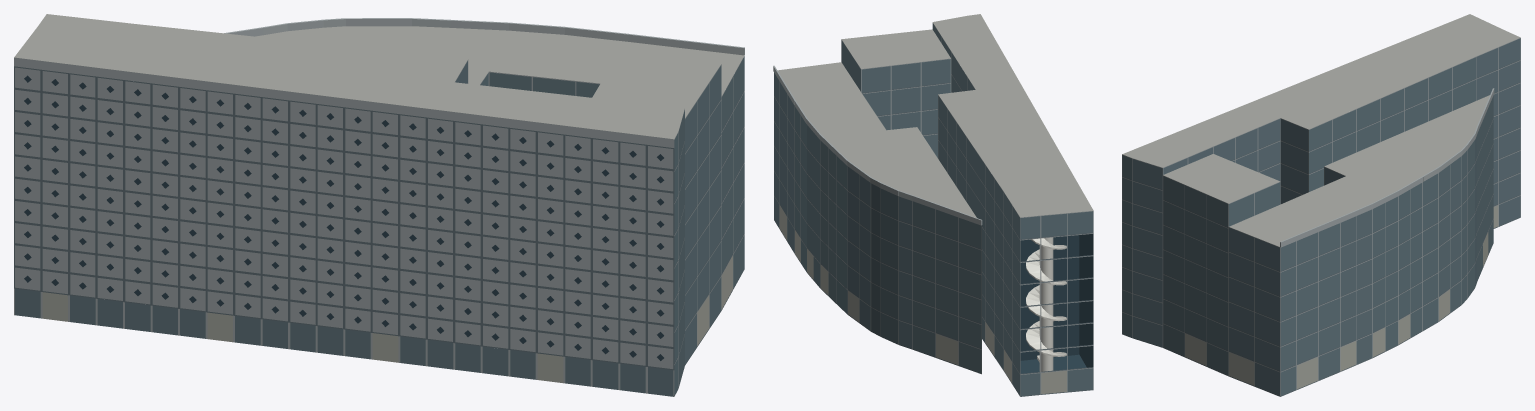
File: institut-du-monde-arabe-far.glb
3 views of the same model, side by side, from view 1: azimuth 30°, elevation 25°; view 2: azimuth 150°, elevation 25°; view 3: azimuth 270°, elevation 25° (orthographic). The views are drawn at different scales.
Parts seen in each view (by area): view 1: institut-du-monde-arabe-0-metal, institut-du-monde-arabe-0-roof, institut-du-monde-arabe-0-frame, institut-du-monde-arabe-0-glass, institut-du-monde-arabe-0-aperture, institut-du-monde-arabe-0-glow; view 2: institut-du-monde-arabe-0-glass, institut-du-monde-arabe-0-roof, institut-du-monde-arabe-0-metal, institut-du-monde-arabe-0-aperture, institut-du-monde-arabe-0-frame, institut-du-monde-arabe-0-white, institut-du-monde-arabe-0-glow; view 3: institut-du-monde-arabe-0-glass, institut-du-monde-arabe-0-roof, institut-du-monde-arabe-0-metal, institut-du-monde-arabe-0-frame, institut-du-monde-arabe-0-glow.
Part boxes in pixels (x1,y1,x2,y2): institut-du-monde-arabe-0-metal: [14, 18, 744, 396]; institut-du-monde-arabe-0-roof: [14, 14, 744, 139]; institut-du-monde-arabe-0-frame: [14, 66, 744, 396]; institut-du-monde-arabe-0-glass: [15, 56, 744, 396]; institut-du-monde-arabe-0-aperture: [24, 75, 664, 360]; institut-du-monde-arabe-0-glow: [42, 256, 732, 382]; institut-du-monde-arabe-0-glass: [774, 23, 1093, 395]; institut-du-monde-arabe-0-roof: [777, 14, 1093, 217]; institut-du-monde-arabe-0-metal: [773, 23, 1093, 396]; institut-du-monde-arabe-0-aperture: [1020, 234, 1093, 373]; institut-du-monde-arabe-0-frame: [774, 73, 1093, 396]; institut-du-monde-arabe-0-white: [1026, 237, 1066, 371]; institut-du-monde-arabe-0-glow: [779, 205, 1066, 393]; institut-du-monde-arabe-0-glass: [1122, 38, 1520, 395]; institut-du-monde-arabe-0-roof: [1122, 14, 1520, 246]; institut-du-monde-arabe-0-metal: [1122, 37, 1520, 396]; institut-du-monde-arabe-0-frame: [1122, 59, 1520, 396]; institut-du-monde-arabe-0-glow: [1185, 205, 1498, 389].
Bounding box in the file's own units: 77.41 × 32 × 64.23.
